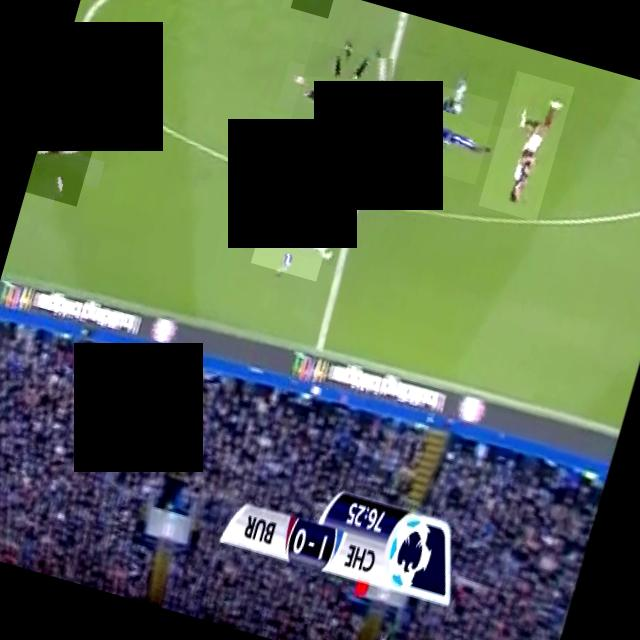referee: (286, 39, 404, 159)
soccer-player: (477, 70, 573, 220), (392, 77, 497, 183), (250, 196, 334, 280), (24, 121, 95, 205), (289, 0, 334, 17)
